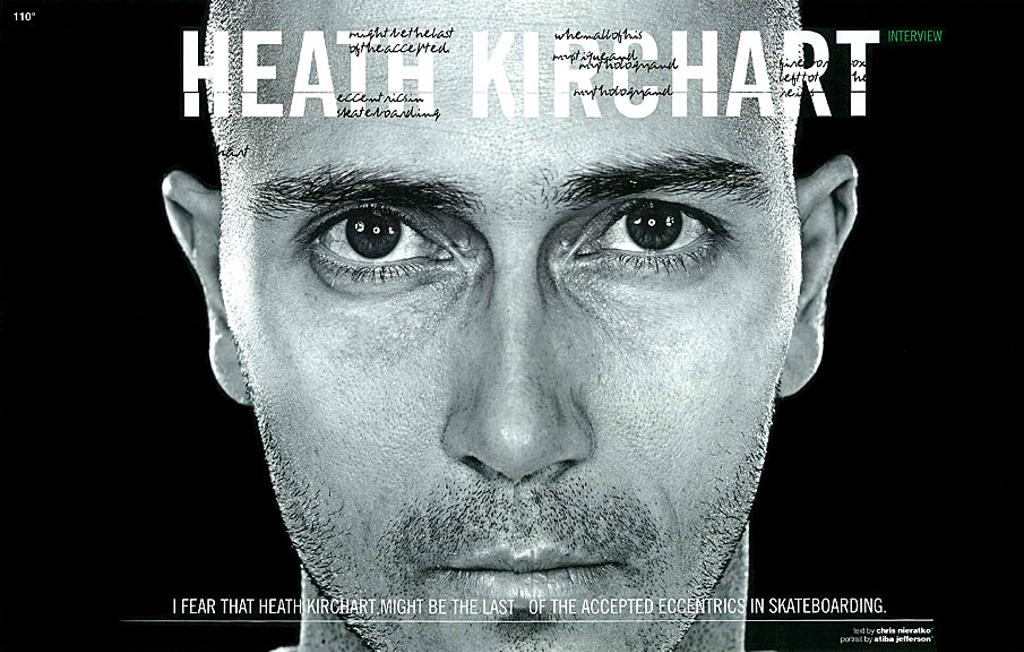face: (220, 6, 796, 652)
